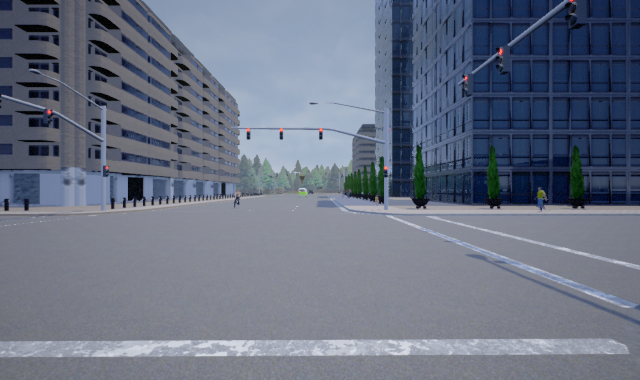bike: (232, 188, 243, 208)
pedestrian: (533, 185, 548, 212)
traffic_light: (565, 1, 589, 29), (494, 42, 511, 75), (460, 69, 475, 96), (42, 105, 55, 126), (102, 163, 110, 178), (245, 126, 252, 139), (318, 126, 324, 141), (383, 165, 389, 179), (278, 126, 284, 139)
vehicle: (297, 186, 309, 198)
